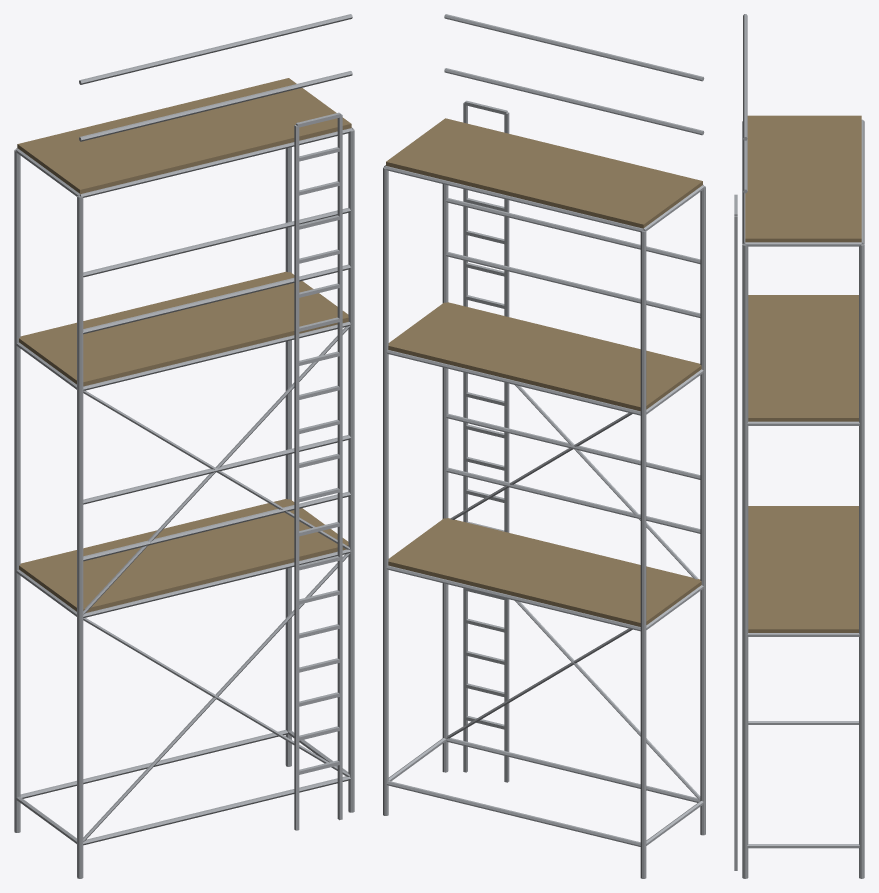
Rendered from scaffold_section_6m.glb.
3 views of the same model, side by side, from view 1: azimuth 30°, elevation 25°; view 2: azimuth 150°, elevation 25°; view 3: azimuth 270°, elevation 25° (orthographic). The views are drawn at different scales.
Parts seen in each view (by area): view 1: deck_plank.002, deck_plank.001, deck_plank, standard, standard.002, standard.001, ladder_rail, ladder_rail.001, standard.003, guard_rail.005, guard_rail.004, x_brace (+12 smaller); view 2: deck_plank.002, deck_plank.001, deck_plank, standard.001, standard.003, standard, standard.002, ladder_rail, ladder_rail.001, guard_rail.004, guard_rail.005, ledger.001 (+12 smaller); view 3: deck_plank.002, deck_plank, deck_plank.001, standard.002, standard.003, ladder_rail.001, guard_rail.005, transom.007, transom.005, transom.001, transom.003, transom (+1 smaller).
Part boxes in pixels (left/top/right/bottom): deck_plank.002: left=17, top=78, right=351, bottom=194; deck_plank.001: left=19, top=271, right=348, bottom=386; deck_plank: left=19, top=499, right=348, bottom=612; standard: left=77, top=196, right=83, bottom=878; standard.002: left=348, top=129, right=354, bottom=812; standard.001: left=14, top=149, right=20, bottom=832; ladder_rail: left=294, top=125, right=299, bottom=830; ladder_rail.001: left=337, top=114, right=342, bottom=820; standard.003: left=285, top=147, right=291, bottom=766; guard_rail.005: left=79, top=14, right=352, bottom=84; guard_rail.004: left=79, top=71, right=352, bottom=141; x_brace: left=83, top=553, right=350, bottom=841; deck_plank.002: left=386, top=118, right=702, bottom=228; deck_plank.001: left=388, top=302, right=701, bottom=411; deck_plank: left=388, top=518, right=701, bottom=626; standard.001: left=640, top=230, right=646, bottom=878; standard.003: left=383, top=167, right=388, bottom=815; standard: left=700, top=186, right=705, bottom=835; standard.002: left=442, top=184, right=448, bottom=772; ladder_rail: left=504, top=112, right=509, bottom=782; ladder_rail.001: left=463, top=102, right=467, bottom=772; guard_rail.004: left=444, top=68, right=704, bottom=135; guard_rail.005: left=444, top=14, right=704, bottom=81; ledger.001: left=386, top=781, right=640, bottom=846; deck_plank.002: left=745, top=115, right=861, bottom=242; deck_plank: left=748, top=506, right=858, bottom=632; deck_plank.001: left=748, top=295, right=858, bottom=421; standard.002: left=742, top=244, right=748, bottom=878; standard.003: left=859, top=244, right=864, bottom=878; ladder_rail.001: left=734, top=216, right=737, bottom=870; guard_rail.005: left=743, top=14, right=747, bottom=140; transom.007: left=745, top=242, right=861, bottom=246; transom.005: left=747, top=421, right=859, bottom=425; transom.001: left=747, top=844, right=859, bottom=848; transom.003: left=747, top=633, right=859, bottom=636; transom: left=748, top=721, right=858, bottom=724.
Size of what is drawn, in the model's own units: 2.55 by 7.02 by 1.12.
